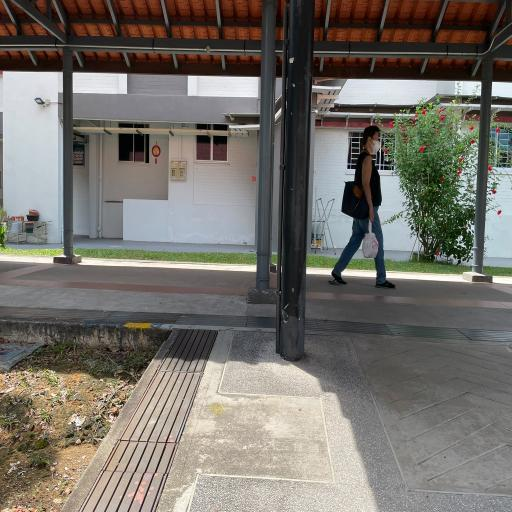person_right: (332, 124, 393, 290)
